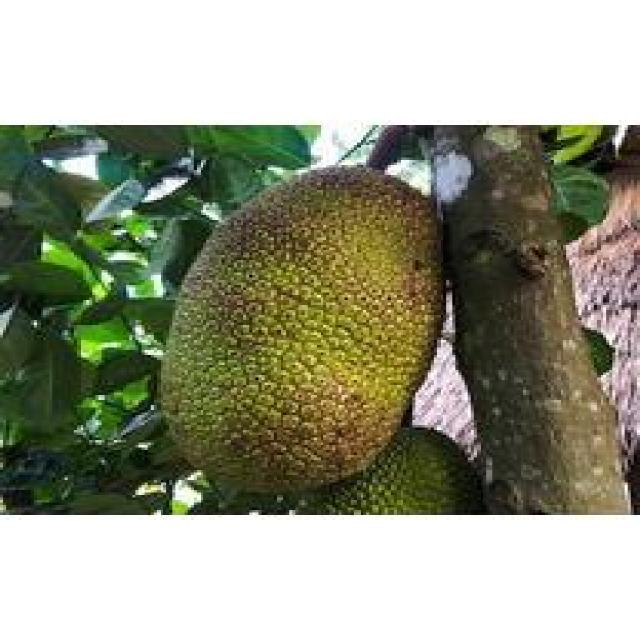Fruit: (138, 158, 471, 512)
